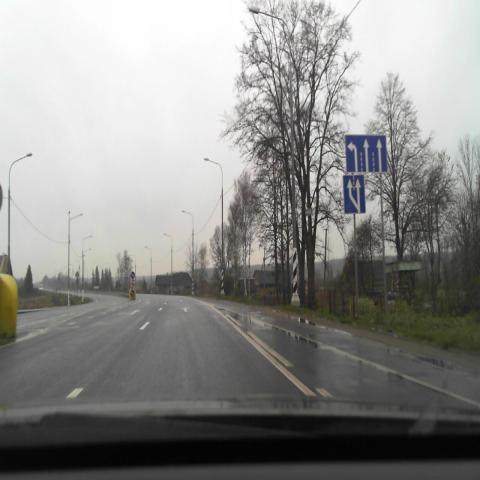5_15_1: (345, 135, 387, 172)
